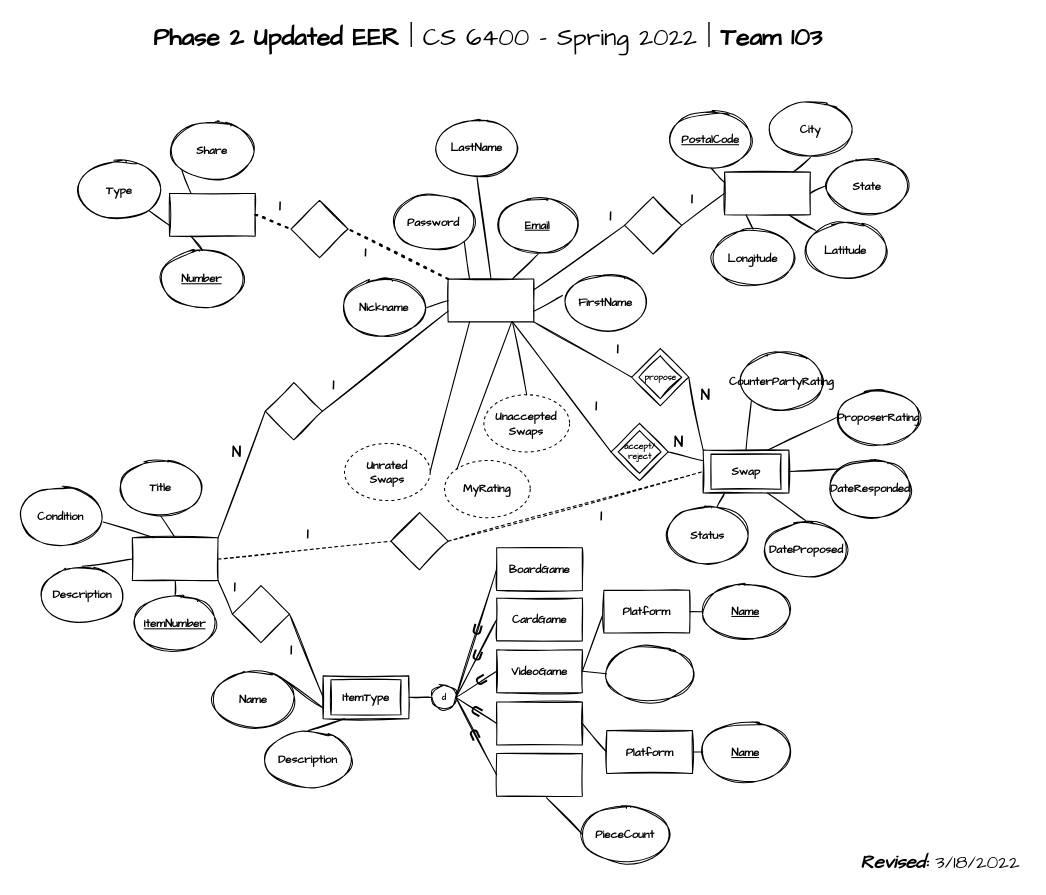
Some shapes in this 1046 by 895 pixel diagram are drawn without their labels. The shapes that lost their labels are listed below. From the top down, each one's centre as x and y in pixels, then its label:
At point (767, 193): "Address".
At point (212, 214): "Phone".
At point (490, 300): "User".
At point (174, 559): "Item".
At point (649, 673): "Media".
At point (539, 723): "ComputerGame".
At point (539, 774): "JigsawPuzzle".
